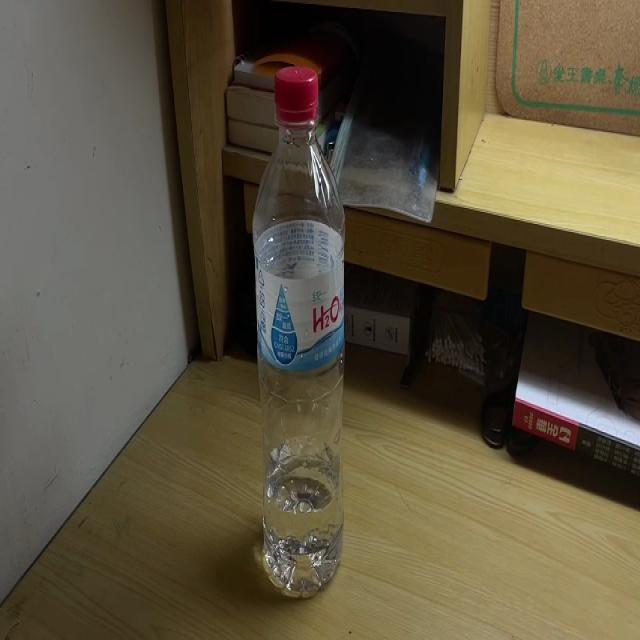Water: (254, 64, 346, 598)
